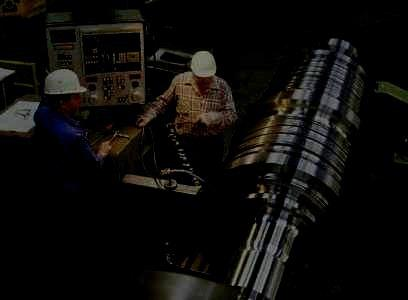helmet: (44, 68, 88, 115), (190, 50, 217, 85)
